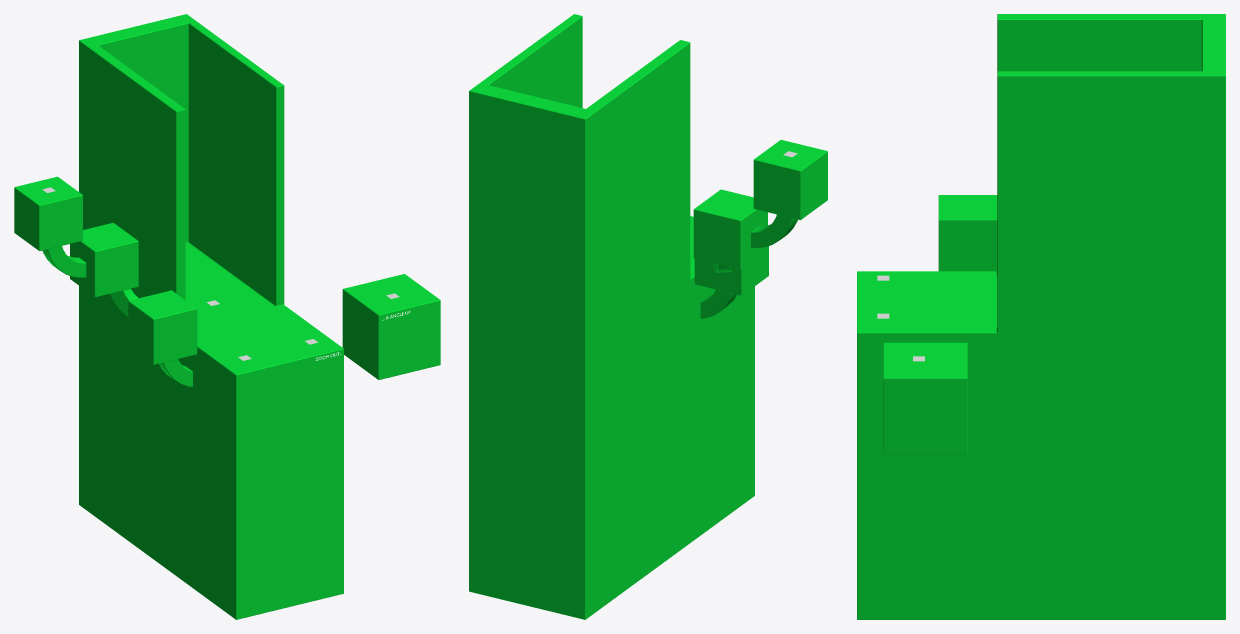
File: level-03.glb
3 renders of one model, left to right at view 1: azimuth 30°, elevation 25°; view 2: azimuth 150°, elevation 25°; view 3: azimuth 270°, elevation 25°, orthographic. The views are drawn at different scales.
Visible parts, largest first — view 1: Cube.001; view 2: Cube.001; view 3: Cube.001.
Part boxes in pixels (x1,y1,x2,y2): Cube.001: (14, 14, 440, 619); Cube.001: (469, 14, 827, 619); Cube.001: (857, 14, 1225, 619).
Size of what is drawn, in the model's own units: 79.19 by 101 by 62.16.
